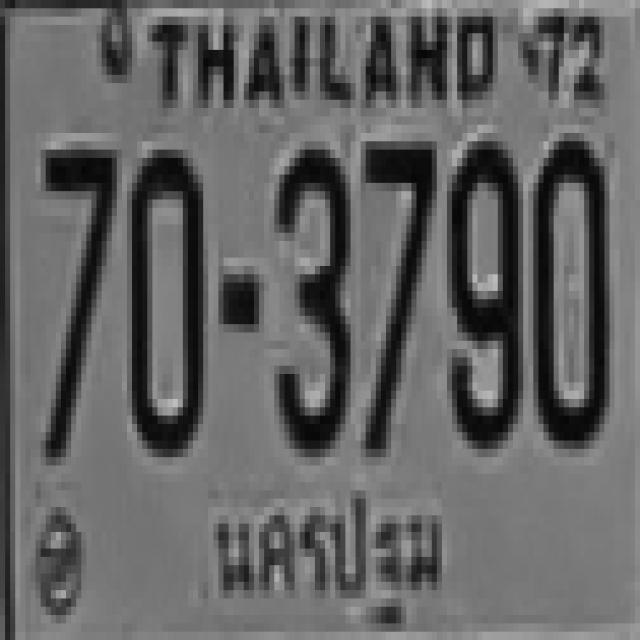0: (528, 133, 604, 441), (127, 146, 198, 444)
3: (272, 141, 348, 449)
7: (40, 141, 111, 457), (361, 133, 432, 449), (40, 142, 111, 358), (361, 133, 432, 349)
9: (447, 133, 518, 441)
NakhonPathom: (202, 468, 448, 638)
